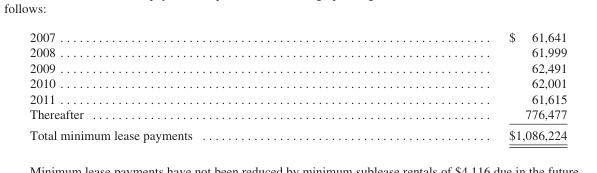table: (28, 29, 566, 141)
table column: (28, 29, 350, 141), (350, 29, 566, 141)
table row: (28, 106, 566, 124), (28, 124, 566, 141), (28, 59, 566, 75), (28, 90, 566, 106), (28, 29, 566, 44), (28, 44, 566, 59), (28, 75, 566, 90)
